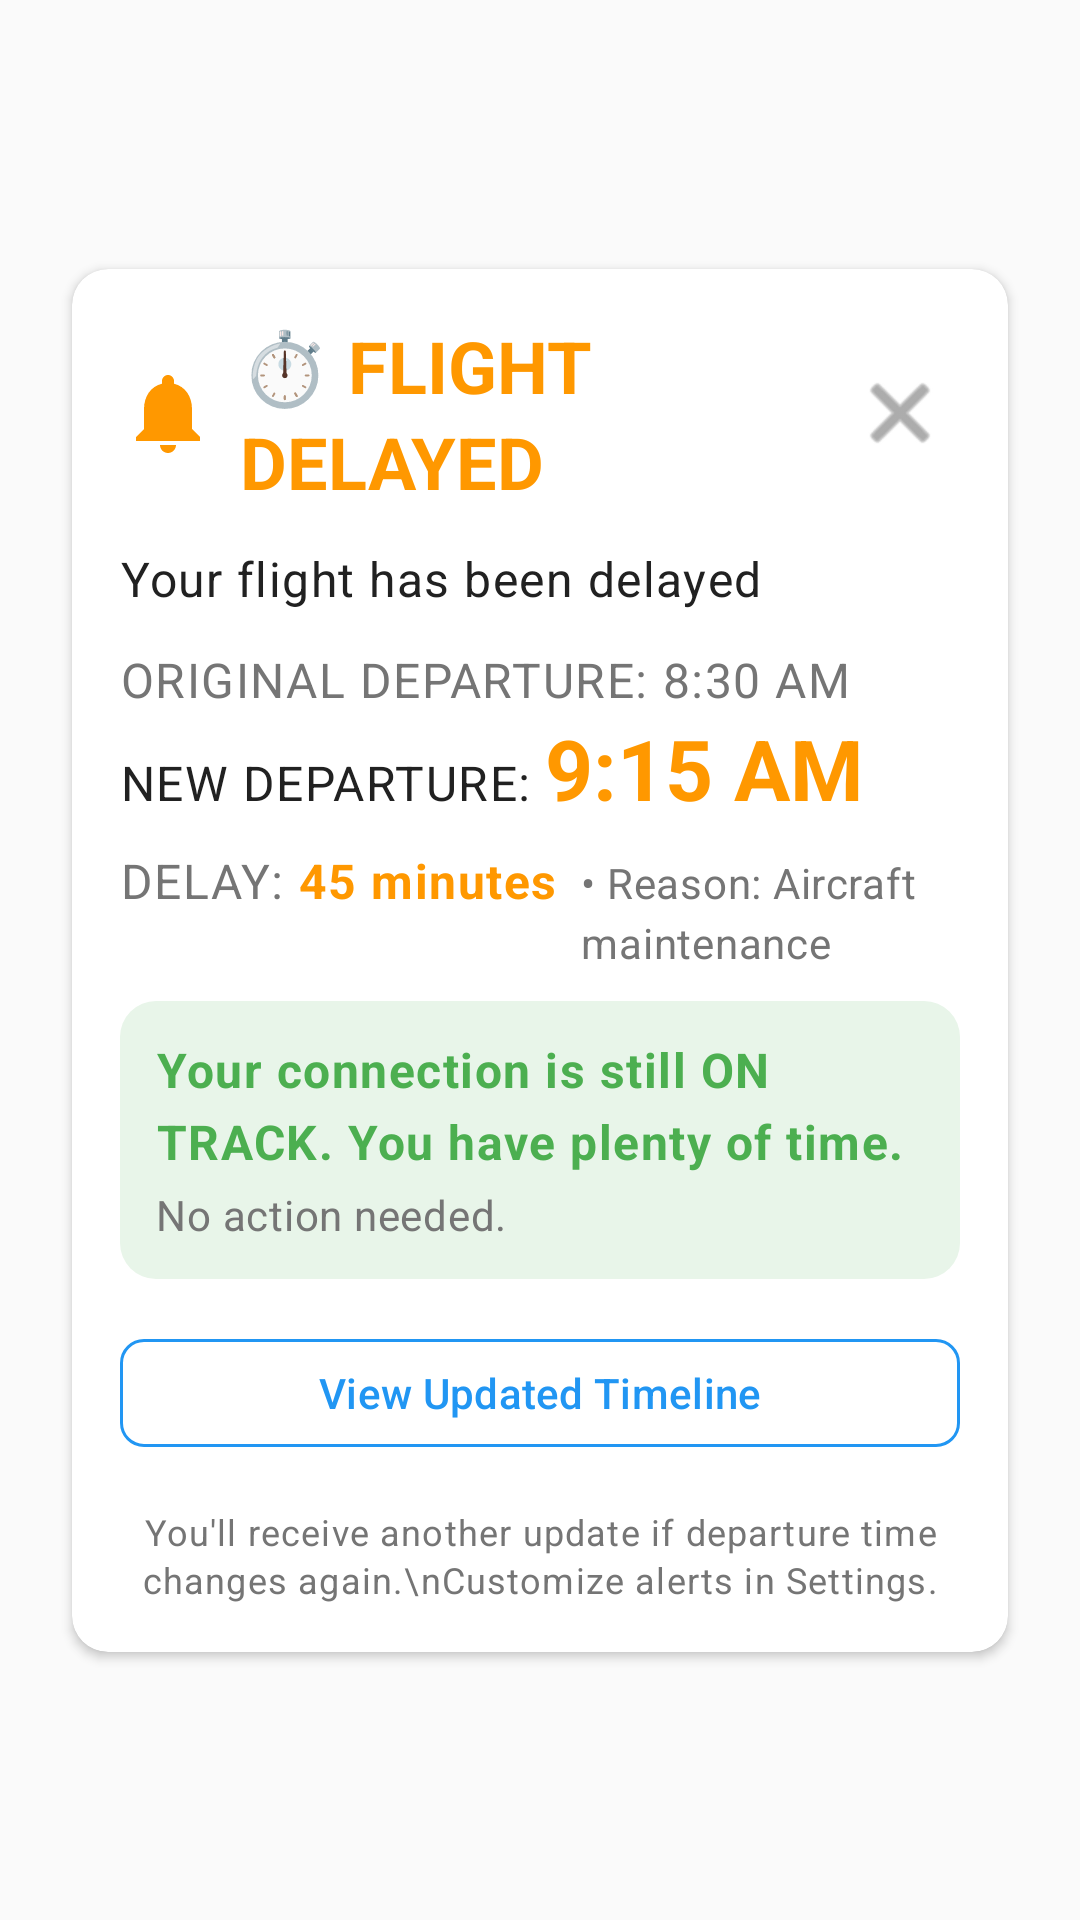

Point at icon controls on the screen. Image size 1080x1920, points as (x=x, y=y).
Alert: (x=168, y=414)
Close: (x=900, y=413)
